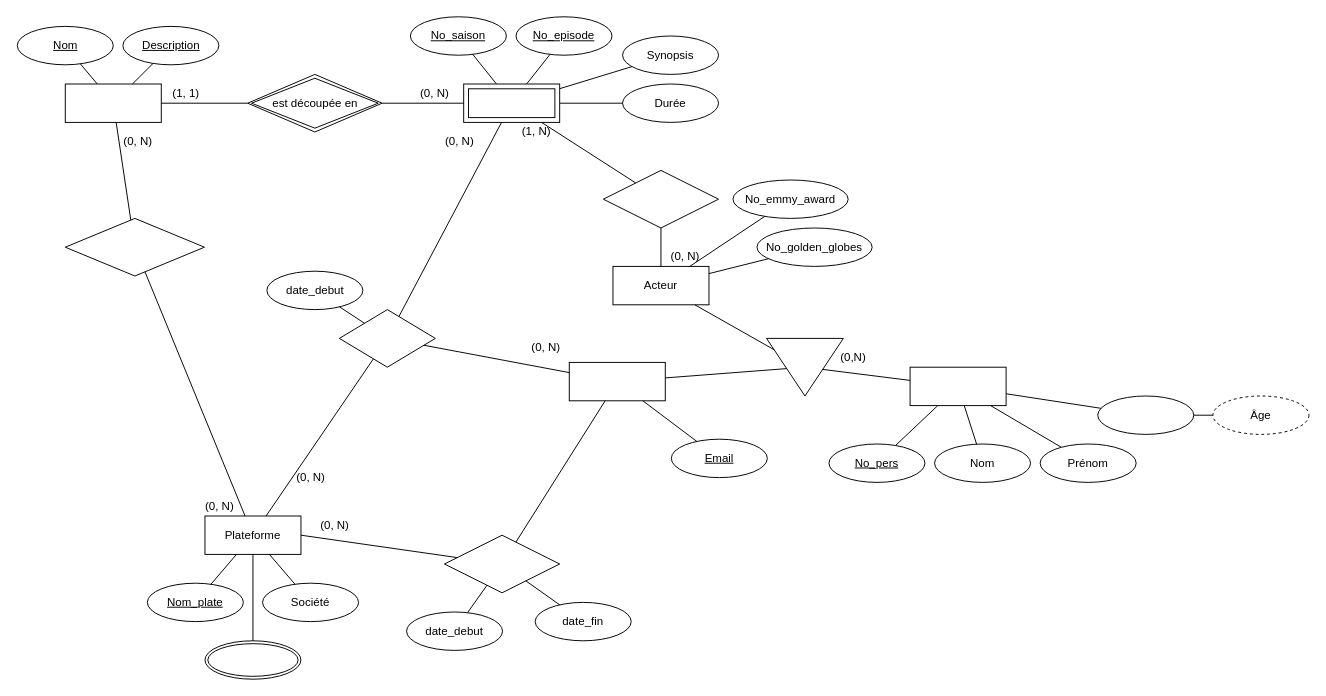
This 1326x696 diagram has some shape labels left out. The centre of each missing label's shape, as x and y in pixels:
Date_naissance: pixel 1145 414
Episode: pixel 511 102
est abonné à: pixel 502 563
est disponible sur: pixel 134 246
ISA: pixel 804 366
joue dans: pixel 660 198
Pays: pixel 252 659
Personne: pixel 957 386
regarde: pixel 386 338
Série: pixel 112 102
Utilisateur: pixel 616 381
